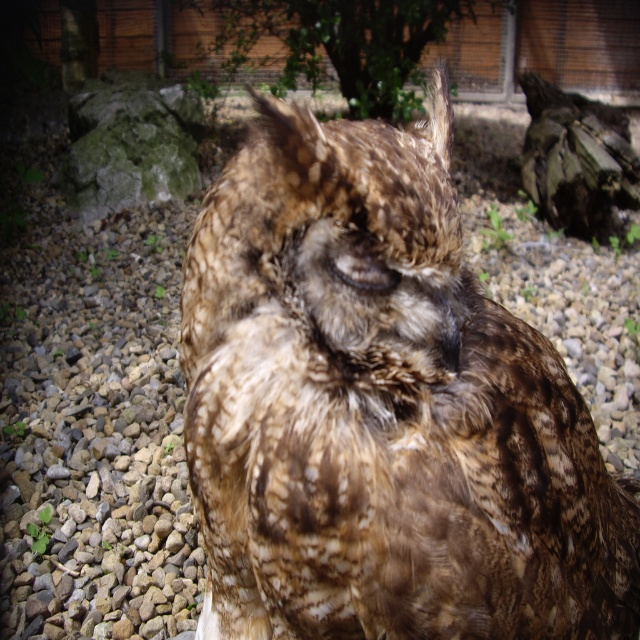Owl: (180, 55, 640, 639)
